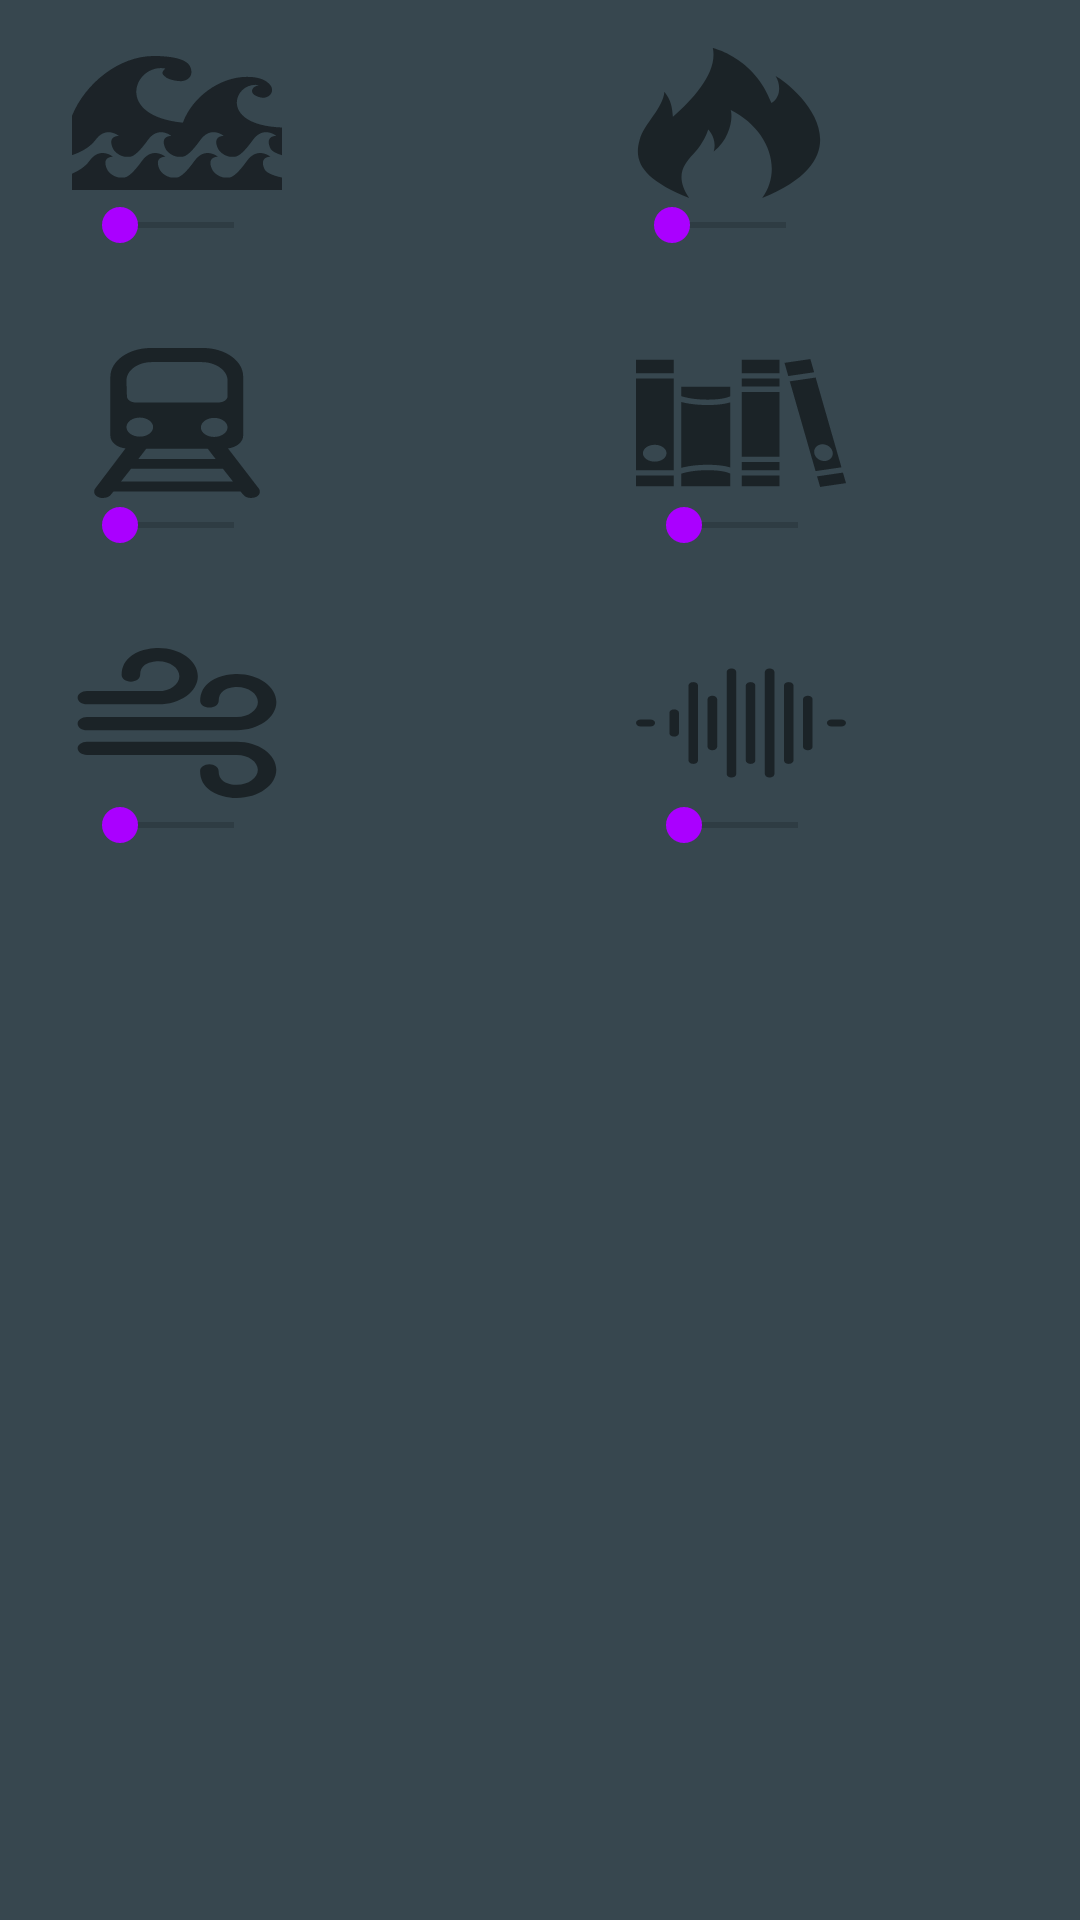

Where icons sit on this 1080 × 1920 app screen, as (x1, y1, x2, y2):
fire: (638, 48, 820, 197)
library: (636, 359, 846, 487)
noise: (636, 669, 846, 777)
ocean: (72, 56, 282, 190)
train: (94, 348, 260, 498)
wind: (78, 648, 276, 798)
